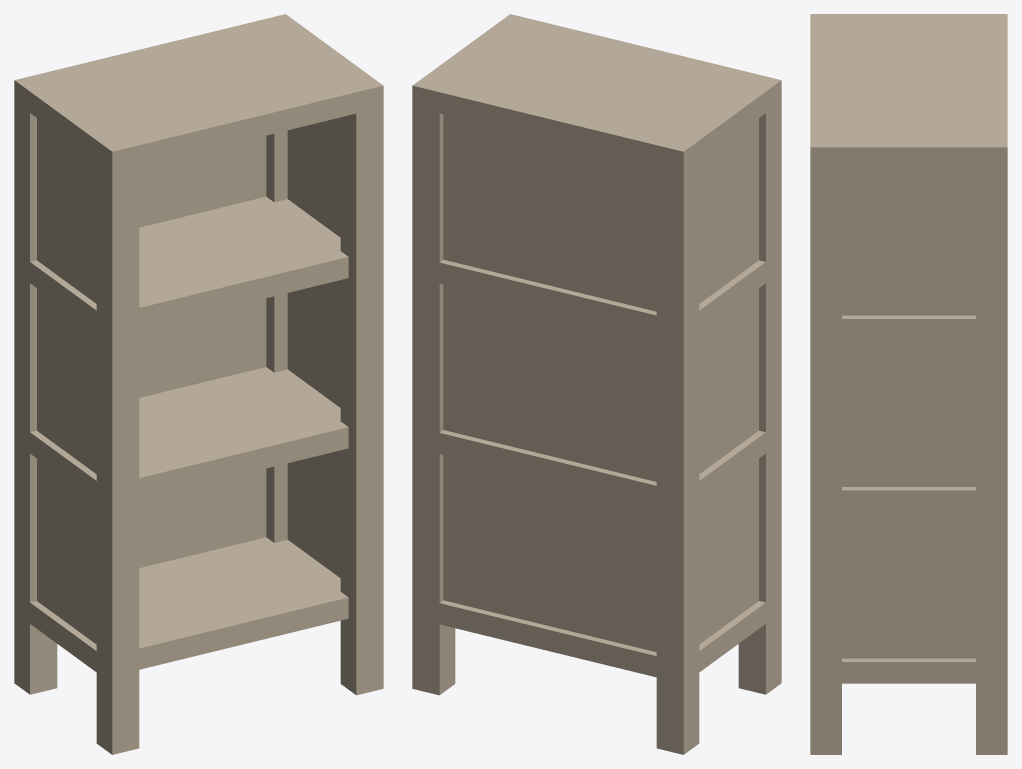
The model's file is bookcase.glb.
3 renders of one model, left to right at view 1: azimuth 30°, elevation 25°; view 2: azimuth 150°, elevation 25°; view 3: azimuth 270°, elevation 25°, orthographic.
Parts seen in each view (by area): view 1: bookcase; view 2: bookcase; view 3: bookcase.
Part boxes in pixels (x1=…): bookcase: x1=14, y1=14, x2=383, y2=754; bookcase: x1=412, y1=14, x2=781, y2=754; bookcase: x1=810, y1=14, x2=1007, y2=754.
Bounding box in the file's own units: 26.35 × 56 × 16.47.
